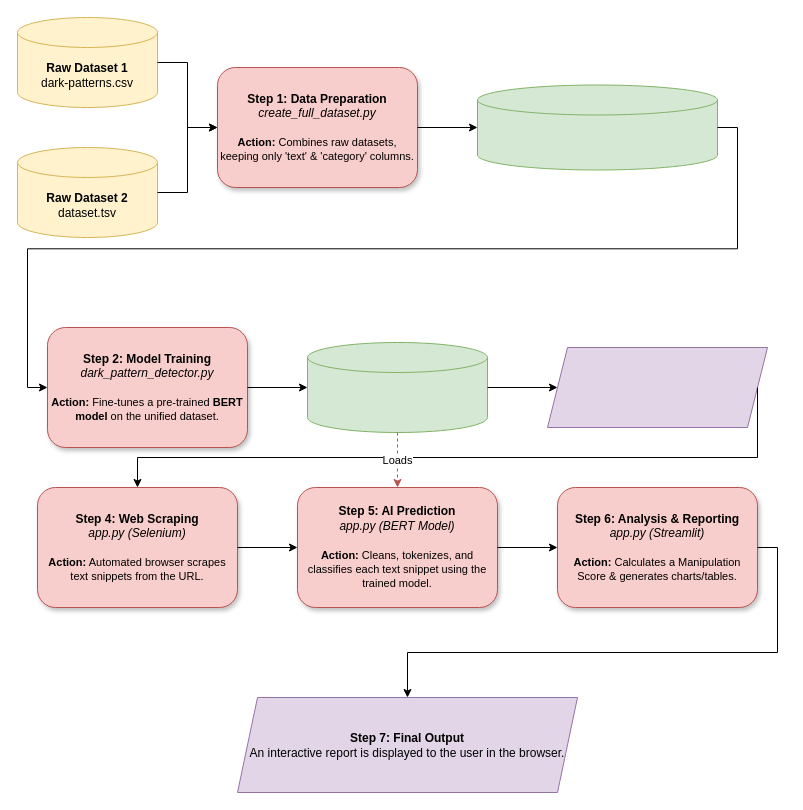
The diagram is 803 pixels wide and 810 high, and some of its shapes have lost their labels. The shapes that lost their labels are listed below. From the top down, each one's centre as x and y in pixels, then its label:
At point 597,127: "Unified Dataset combined_dark_patterns_FULL.csv (3,868 Samples)".
At point 397,387: "Final Trained Model Artifact final_dark_pattern_model/ (Accuracy: 97.55%)".
At point 657,387: "Step 3: User Input User enters a website URL into the Streamlit app.".
